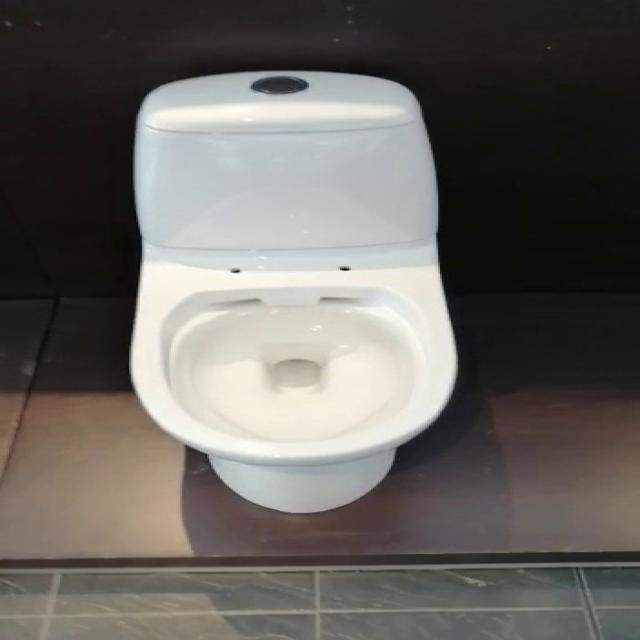toilet: (118, 65, 467, 518)
